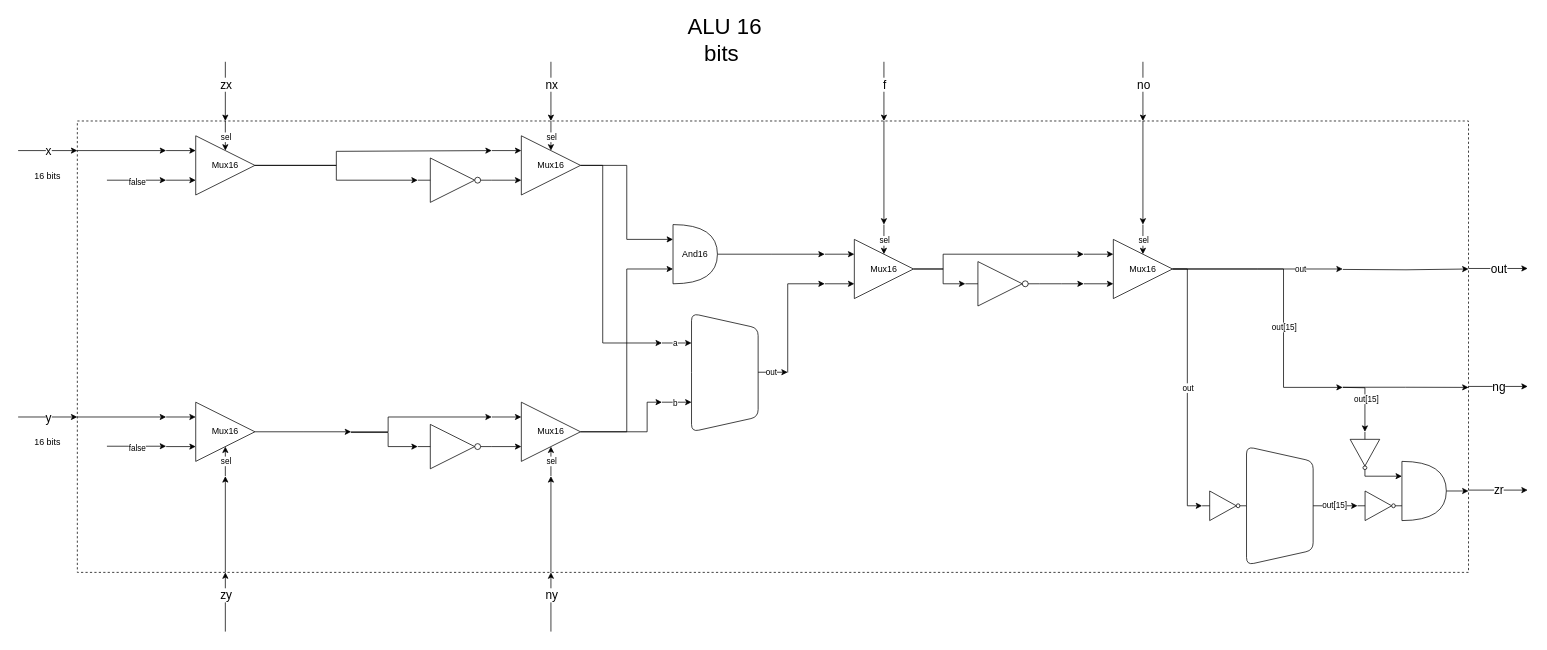
This 1547x650 diagram has some shape labels left out. Each missing label, with the centre of its shape:
"Add16" goes at point 724,372.
"And" goes at point 1423,491.
"Inc16" goes at point 1279,505.
